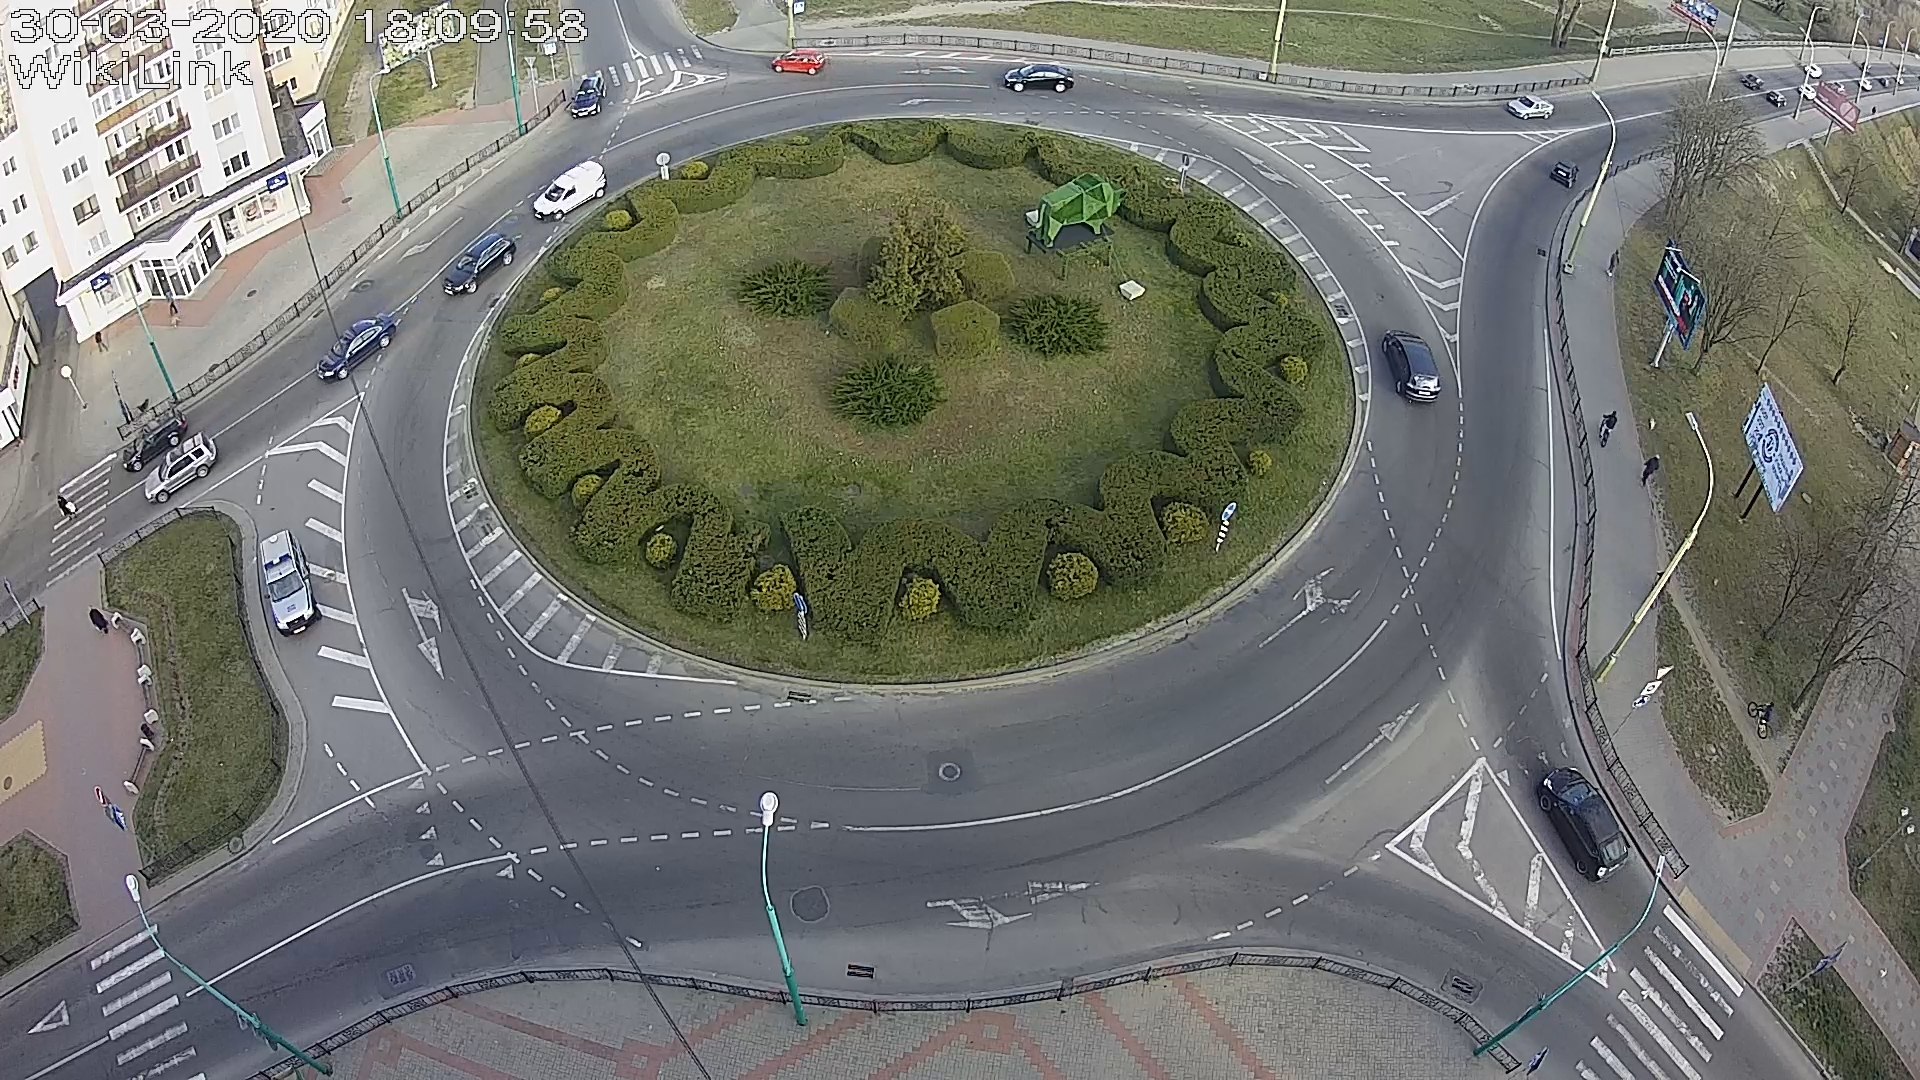car: (1536, 766, 1629, 884), (260, 529, 322, 637), (144, 431, 218, 505), (316, 313, 396, 381), (442, 232, 516, 295), (1382, 328, 1443, 405), (533, 160, 607, 222), (123, 407, 189, 472), (1004, 63, 1075, 94), (771, 47, 828, 75), (571, 75, 607, 119), (1507, 94, 1555, 120), (1549, 160, 1580, 189)
